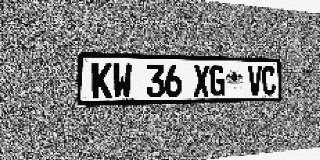3: (147, 64, 164, 98)
6: (165, 64, 182, 97)
C: (262, 66, 275, 95)
G: (210, 65, 225, 96)
K: (92, 63, 112, 99)
V: (248, 66, 262, 95)
W: (113, 63, 132, 98)
X: (194, 65, 209, 97)
